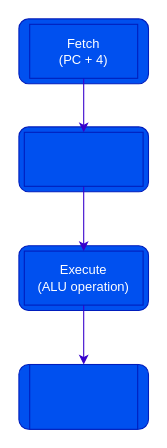
This 167x448 diagram has some shape labels left out. Each missing label, with the centre of its shape:
Decode (Extract opcode): [83,158]
Writeback (Store result): [83,396]
